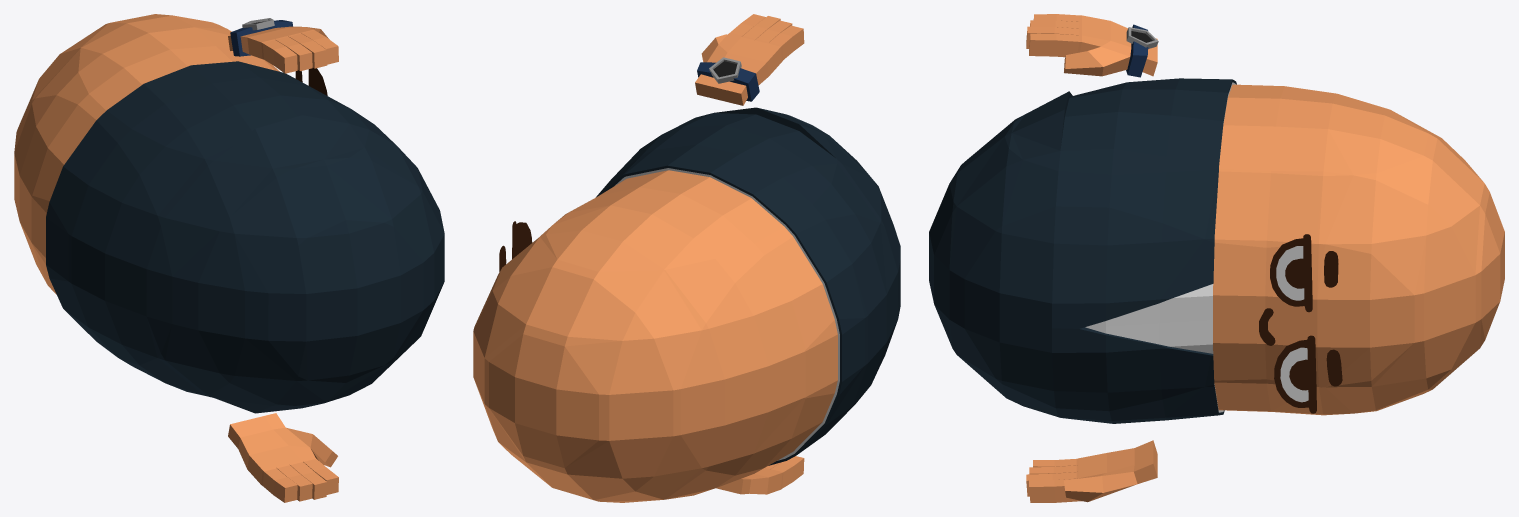
Rendered from Potato3rotated3.fbx.
3 renders of one model, left to right at view 1: azimuth 30°, elevation 25°; view 2: azimuth 150°, elevation 25°; view 3: azimuth 270°, elevation 25°, orthographic. The views are drawn at different scales.
Visible parts, largest first — view 1: Mball.003, Potato.002, Cube.004, Cube.006; view 2: Potato.002, Mball.003, Cube.006, Cube.004, Plane.002, Cylinder.006; view 3: Mball.003, Potato.002, Plane.002, Cube.006, Cube.004.
Boxes of the visible parts, left/top/right/bottom form: Mball.003: left=46, top=61, right=444, bottom=413; Potato.002: left=14, top=14, right=279, bottom=294; Cube.004: left=228, top=413, right=338, bottom=502; Cube.006: left=228, top=20, right=338, bottom=73; Potato.002: left=473, top=170, right=837, bottom=502; Mball.003: left=596, top=107, right=900, bottom=465; Cube.006: left=695, top=14, right=804, bottom=105; Cube.004: left=716, top=456, right=804, bottom=494; Plane.002: left=499, top=221, right=532, bottom=271; Cylinder.006: left=709, top=57, right=741, bottom=83; Mball.003: left=929, top=78, right=1236, bottom=423; Potato.002: left=1213, top=84, right=1504, bottom=415; Plane.002: left=1259, top=234, right=1342, bottom=413; Cube.006: left=1026, top=14, right=1157, bottom=77; Cube.004: left=1026, top=440, right=1157, bottom=502.
Size of the model in its own units: 277 by 389 by 438.
